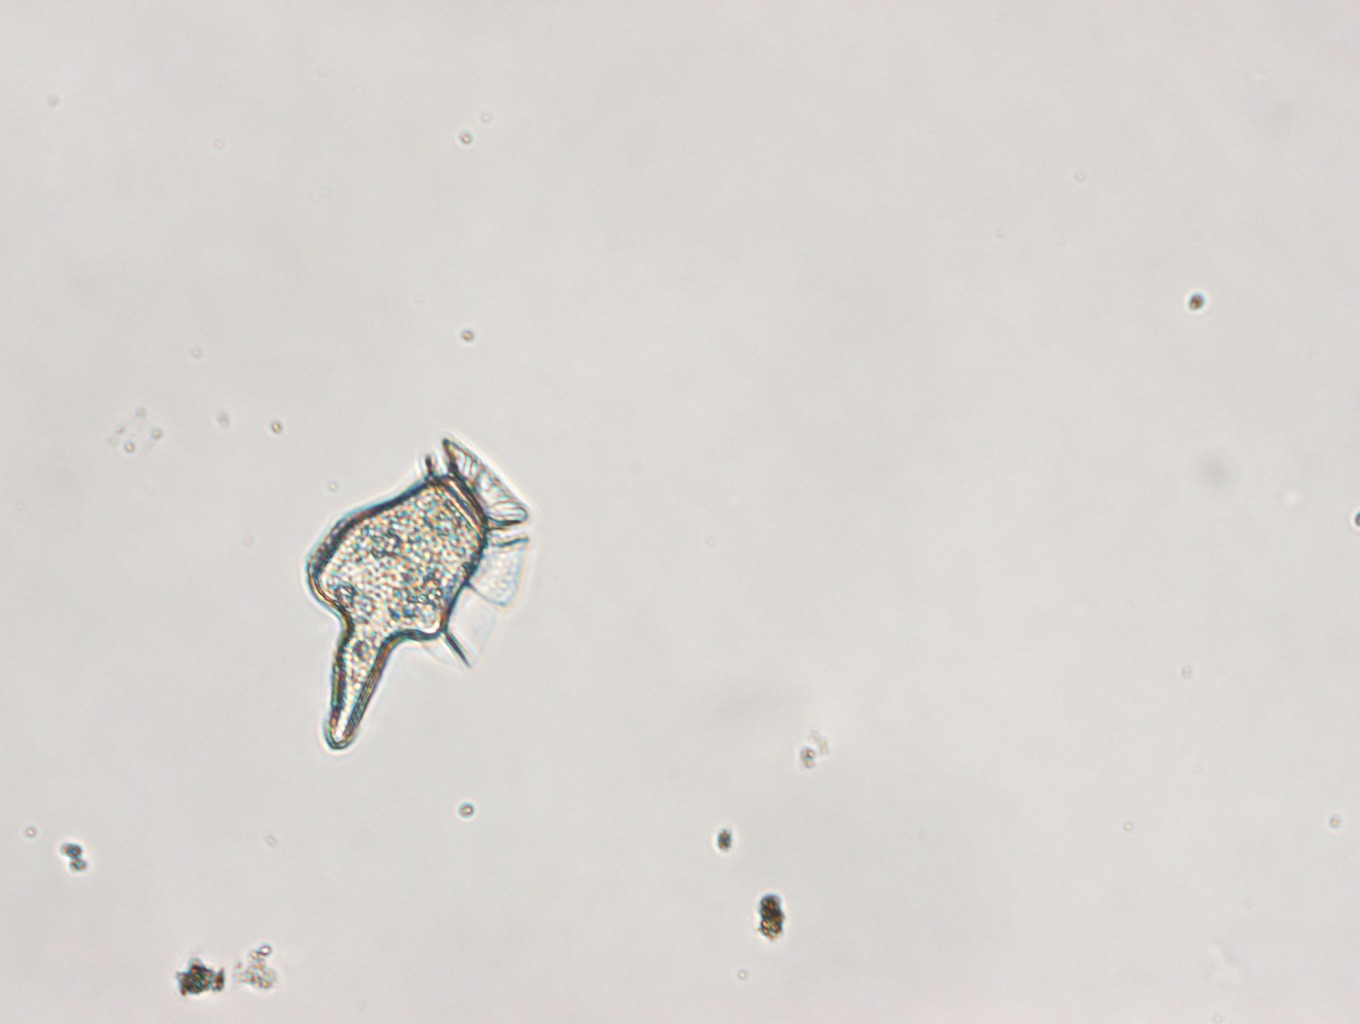dinophysis caudata: (305, 436, 528, 753)
